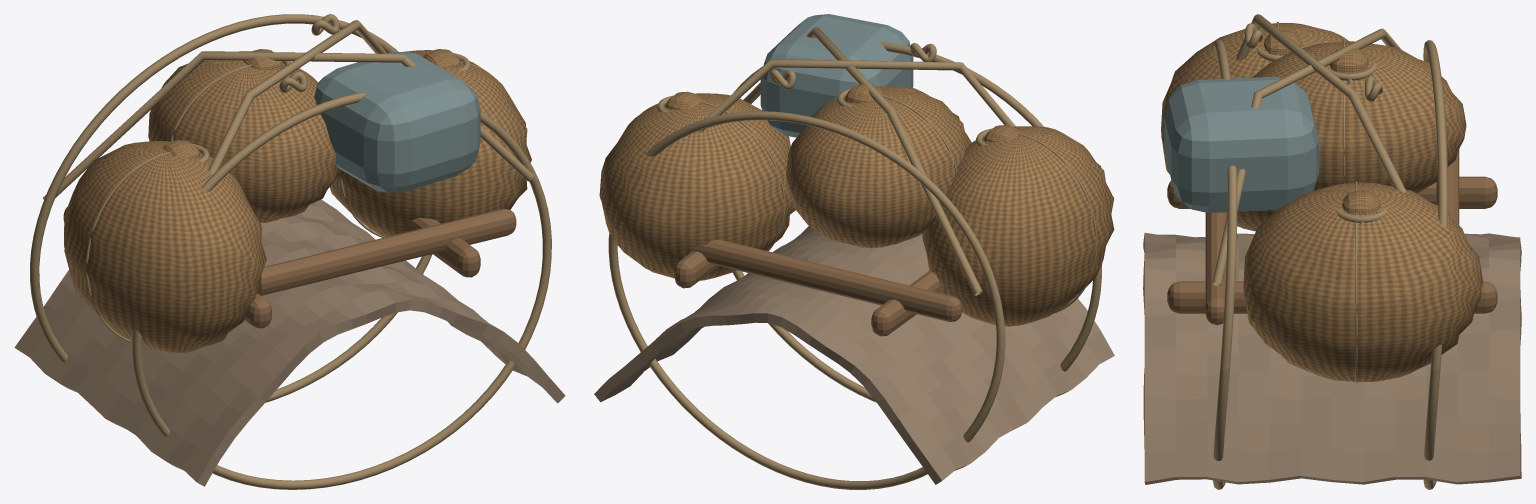
File: ox-pack.glb
3 views of the same model, side by side, from view 1: azimuth 30°, elevation 25°; view 2: azimuth 150°, elevation 25°; view 3: azimuth 270°, elevation 25° (orthographic). The views are drawn at different scales.
Parts seen in each view (by area): view 1: 贴背垫毡, 独立麻袋_0, 蓝布包袱, 独立麻袋_2, 独立麻袋_1, 整圈固定驮绳, 驮架横梁, 整圈固定驮绳.001, 交叉压货绳2, 交叉压货绳, 驮架纵木.001, 驮架纵木 (+1 smaller); view 2: 贴背垫毡, 独立麻袋_0, 独立麻袋_1, 独立麻袋_2, 整圈固定驮绳.001, 蓝布包袱, 驮架横梁.001, 整圈固定驮绳, 交叉压货绳, 交叉压货绳2, 驮架纵木, 驮架纵木.001; view 3: 贴背垫毡, 独立麻袋_1, 蓝布包袱, 独立麻袋_2, 独立麻袋_0, 整圈固定驮绳, 整圈固定驮绳.001, 交叉压货绳, 交叉压货绳2, 驮架纵木.001, 驮架横梁, 驮架纵木 (+5 smaller).
Boxes of the visible parts, bbox=[...] form: 贴背垫毡: bbox=[14, 199, 565, 486]; 独立麻袋_0: bbox=[64, 141, 266, 352]; 蓝布包袱: bbox=[314, 51, 480, 192]; 独立麻袋_2: bbox=[148, 51, 342, 222]; 独立麻袋_1: bbox=[329, 50, 531, 237]; 整圈固定驮绳: bbox=[132, 92, 551, 489]; 驮架横梁: bbox=[259, 208, 516, 295]; 整圈固定驮绳.001: bbox=[30, 14, 432, 402]; 交叉压货绳2: bbox=[43, 51, 533, 199]; 交叉压货绳: bbox=[208, 20, 386, 174]; 驮架纵木.001: bbox=[404, 218, 480, 277]; 驮架纵木: bbox=[244, 293, 271, 328]; 贴背垫毡: bbox=[594, 226, 1114, 484]; 独立麻袋_0: bbox=[922, 126, 1114, 326]; 独立麻袋_1: bbox=[599, 93, 793, 280]; 独立麻袋_2: bbox=[786, 86, 971, 248]; 整圈固定驮绳.001: bbox=[608, 111, 1005, 489]; 蓝布包袱: bbox=[760, 14, 913, 137]; 驮架横梁.001: bbox=[693, 239, 961, 321]; 整圈固定驮绳: bbox=[732, 41, 1101, 402]; 交叉压货绳: bbox=[696, 59, 1015, 132]; 交叉压货绳2: bbox=[743, 27, 982, 295]; 驮架纵木: bbox=[871, 270, 940, 336]; 驮架纵木.001: bbox=[674, 204, 795, 288]; 贴背垫毡: bbox=[1143, 233, 1521, 484]; 独立麻袋_1: bbox=[1243, 182, 1482, 381]; 蓝布包袱: bbox=[1164, 76, 1318, 212]; 独立麻袋_2: bbox=[1252, 41, 1466, 193]; 独立麻袋_0: bbox=[1161, 23, 1348, 231]; 整圈固定驮绳: bbox=[1213, 40, 1237, 489]; 整圈固定驮绳.001: bbox=[1423, 40, 1447, 489]; 交叉压货绳: bbox=[1236, 14, 1406, 192]; 交叉压货绳2: bbox=[1212, 28, 1401, 285]; 驮架纵木.001: bbox=[1167, 281, 1497, 313]; 驮架横梁: bbox=[1205, 212, 1227, 325]; 驮架纵木: bbox=[1167, 176, 1497, 208].
Bounding box in the file's own units: 1.35 × 1.12 × 0.9173.
Materials: 5 (1 with a texture image).
